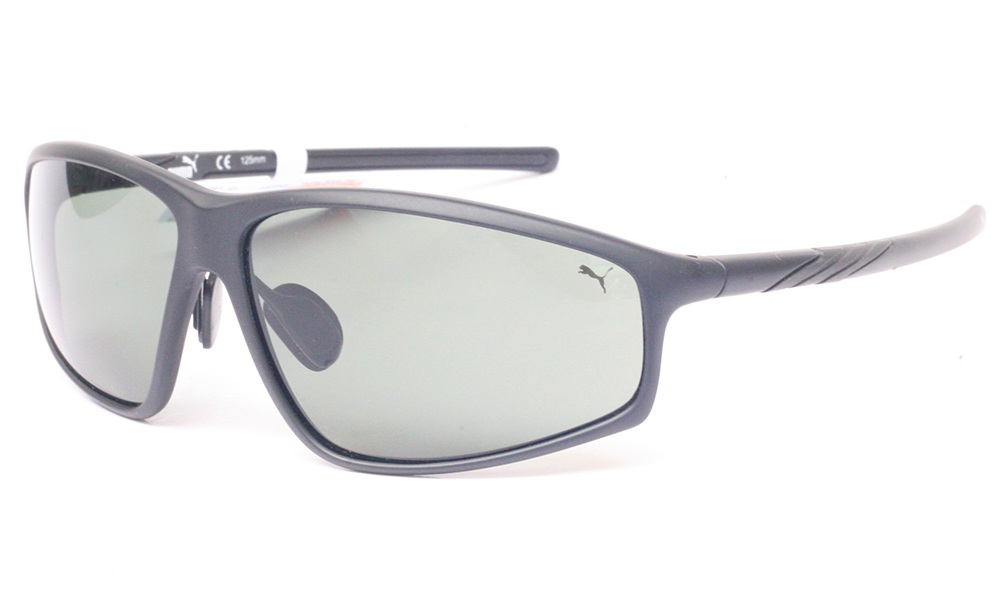Puma: (564, 254, 626, 297), (153, 143, 202, 186)
